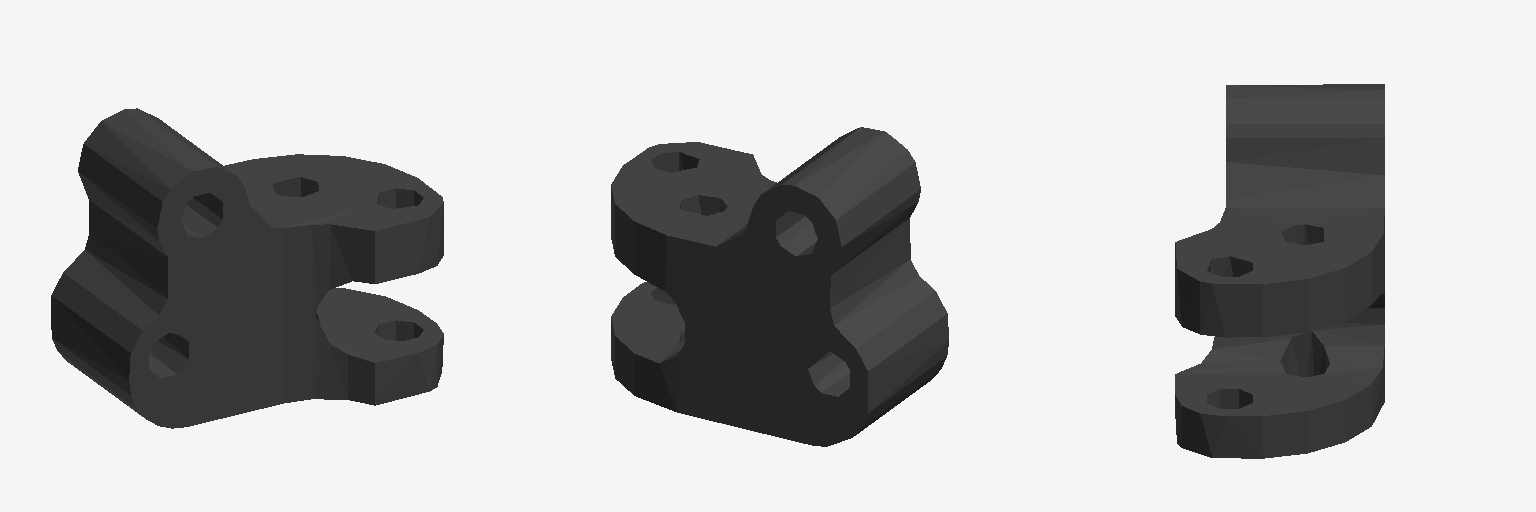
Rendered from R_thumb_proximal_base.obj.
3 renders of one model, left to right at view 1: azimuth 30°, elevation 25°; view 2: azimuth 150°, elevation 25°; view 3: azimuth 270°, elevation 25°, orthographic.
Size of the model in its own units: 0.0213 by 0.0168 by 0.0125.